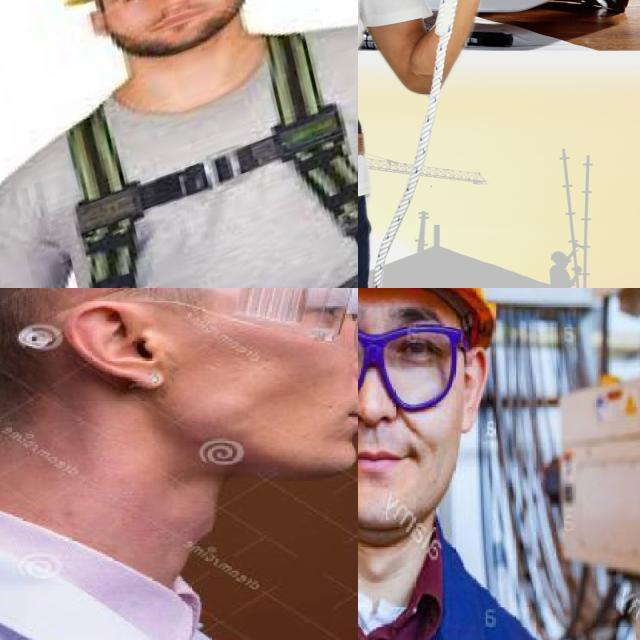Harness: (68, 36, 358, 288)
No_Ear-Protection: (57, 294, 168, 394), (461, 342, 487, 436)
face_mask: (18, 288, 358, 359)
face_nomask: (358, 314, 450, 480), (295, 288, 358, 467)
glasses: (358, 321, 469, 412)
person: (0, 288, 358, 640), (358, 288, 600, 640)
